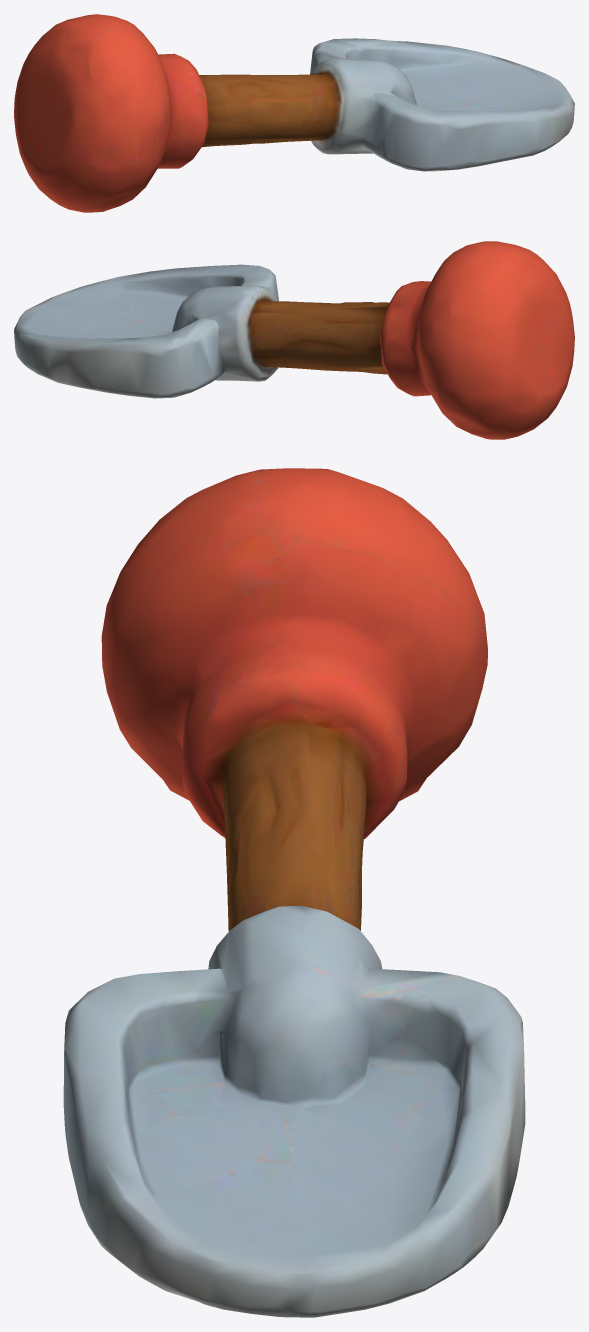
File: shovel.glb
3 views of the same model, one above another, from view 1: azimuth 30°, elevation 25°; view 2: azimuth 150°, elevation 25°; view 3: azimuth 270°, elevation 25° (orthographic). The views are drawn at different scales.
Parts seen in each view (by area): view 1: tripo_node_330635fc-aa00-4a42-915d-83de5063853b; view 2: tripo_node_330635fc-aa00-4a42-915d-83de5063853b; view 3: tripo_node_330635fc-aa00-4a42-915d-83de5063853b.
Boxes of the visible parts, <box> form: tripo_node_330635fc-aa00-4a42-915d-83de5063853b: <box>14,14,574,212</box>; tripo_node_330635fc-aa00-4a42-915d-83de5063853b: <box>14,241,574,439</box>; tripo_node_330635fc-aa00-4a42-915d-83de5063853b: <box>63,468,525,1317</box>.
Bounding box in the file's own units: 1 × 0.354 × 0.3777.
Materials: 1 (1 with a texture image).
